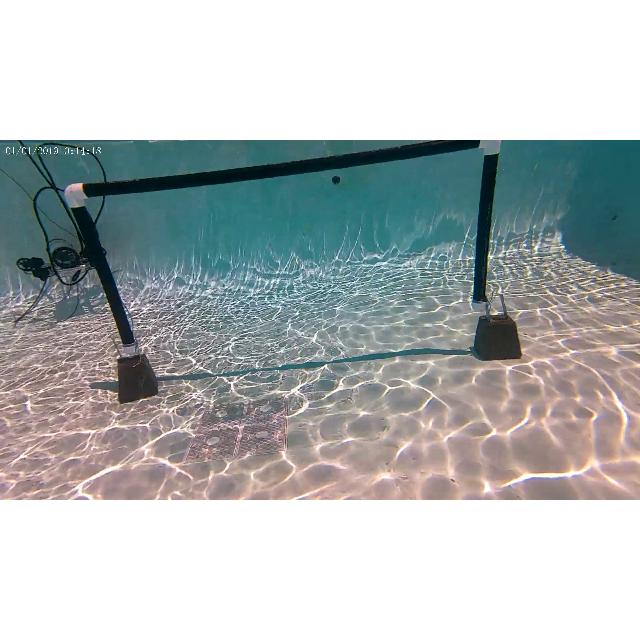prequal gate: (64, 140, 502, 356)
prequal gate leg l: (61, 182, 145, 358)
prequal gate leg r: (468, 140, 508, 308)
